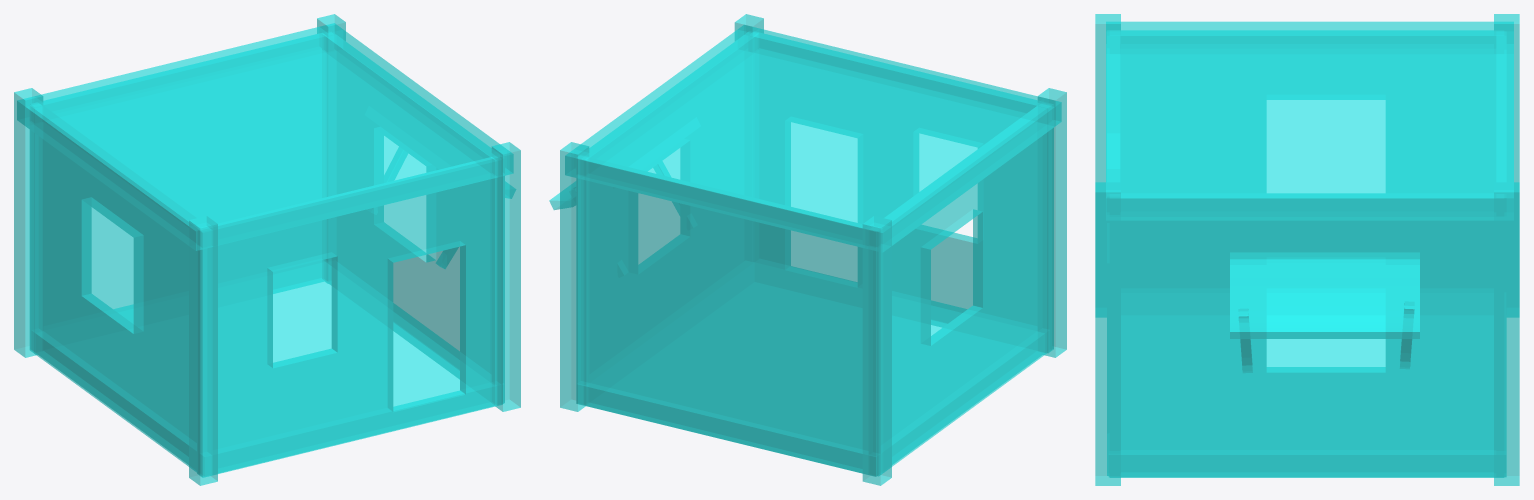
Rendered from SM_Bld_Shack_08_Collision.fbx.
3 views of the same model, side by side, from view 1: azimuth 30°, elevation 25°; view 2: azimuth 150°, elevation 25°; view 3: azimuth 270°, elevation 25° (orthographic). The views are drawn at different scales.
Parts seen in each view (by area): view 1: SM_Bld_Shack_08_Collision; view 2: SM_Bld_Shack_08_Collision; view 3: SM_Bld_Shack_08_Collision.
Boxes of the visible parts, box(x1,y1,x2,y2) form: SM_Bld_Shack_08_Collision: box(14, 14, 520, 485); SM_Bld_Shack_08_Collision: box(549, 14, 1066, 485); SM_Bld_Shack_08_Collision: box(1095, 14, 1519, 485).
Bounding box in the file's own units: 518 × 339 × 445.
